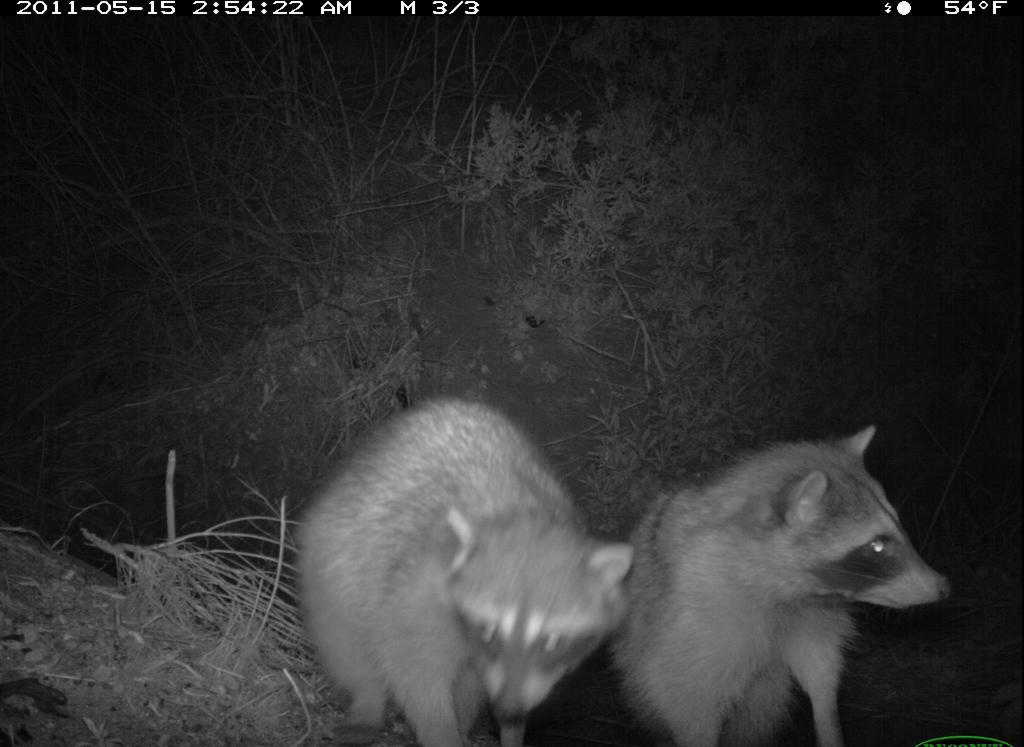raccoon: (282, 388, 638, 747), (609, 422, 966, 747)
